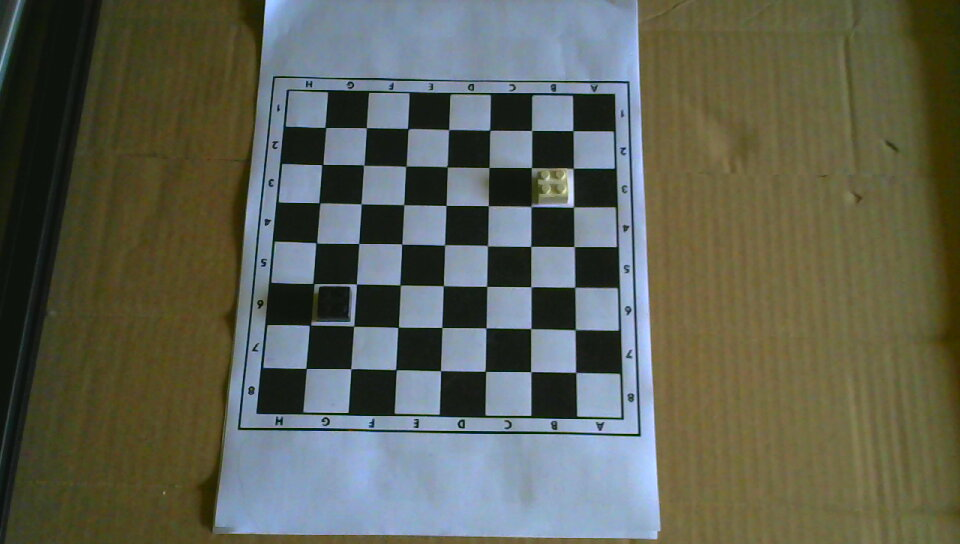bp: (316, 285, 351, 324)
wp: (536, 169, 570, 206)
